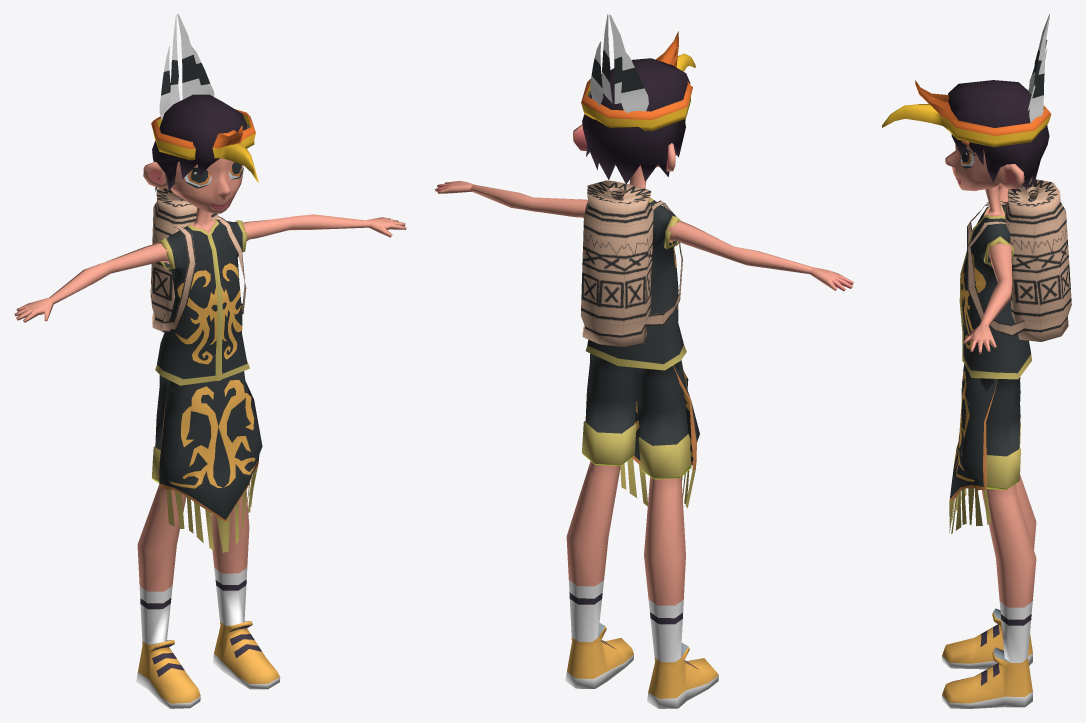
File: dayak.glb
3 renders of one model, left to right at view 1: azimuth 30°, elevation 25°; view 2: azimuth 150°, elevation 25°; view 3: azimuth 270°, elevation 25°, orthographic. The views are drawn at different scales.
Visible parts, largest first — view 1: body_2, sarung_3, hat_1, bag_0; view 2: body_2, bag_0, hat_1, sarung_3; view 3: body_2, bag_0, sarung_3, hat_1.
Boxes of the visible parts, x1=… form: body_2: x1=14, y1=94, x2=406, y2=708; sarung_3: x1=159, y1=371, x2=262, y2=552; hat_1: x1=151, y1=14, x2=258, y2=182; bag_0: x1=150, y1=187, x2=246, y2=332; body_2: x1=435, y1=58, x2=853, y2=708; bag_0: x1=580, y1=180, x2=682, y2=346; hat_1: x1=581, y1=14, x2=695, y2=130; sarung_3: x1=620, y1=360, x2=699, y2=507; body_2: x1=942, y1=80, x2=1049, y2=708; bag_0: x1=967, y1=179, x2=1071, y2=341; sarung_3: x1=949, y1=364, x2=998, y2=533; hat_1: x1=882, y1=14, x2=1051, y2=147.
Bounding box in the file's own units: 1.82 × 2.89 × 0.7451.
2 materials, 2 textured.
